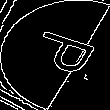P_SE: (13, 28, 97, 82)
